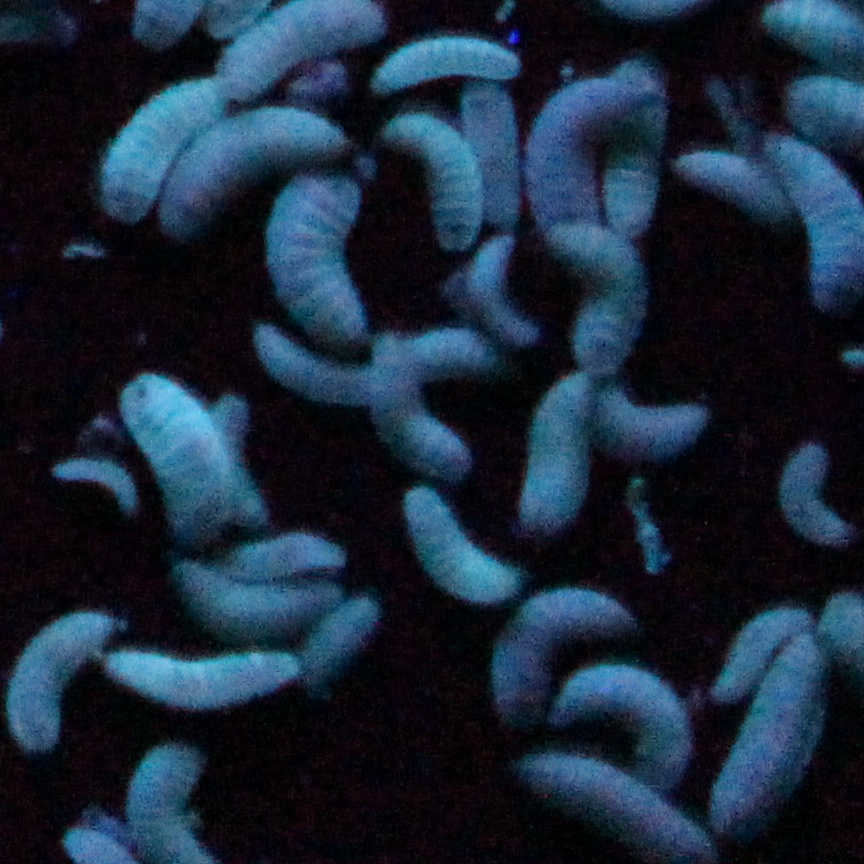larve: (154, 108, 333, 224), (716, 642, 825, 826), (120, 373, 236, 540), (515, 752, 712, 850), (531, 83, 654, 227), (267, 176, 367, 345), (10, 609, 123, 752), (493, 598, 623, 719), (105, 75, 215, 212), (395, 489, 520, 606), (561, 670, 690, 781), (554, 229, 643, 376), (367, 334, 464, 468), (92, 642, 293, 704), (162, 565, 334, 635), (389, 112, 475, 252), (528, 378, 598, 530), (597, 58, 657, 232), (249, 319, 374, 399), (582, 378, 705, 457), (716, 608, 815, 701), (462, 76, 513, 221), (374, 35, 516, 86), (467, 229, 526, 344), (679, 152, 785, 212), (784, 445, 846, 545), (298, 598, 377, 676), (208, 534, 351, 571), (52, 462, 134, 504)
